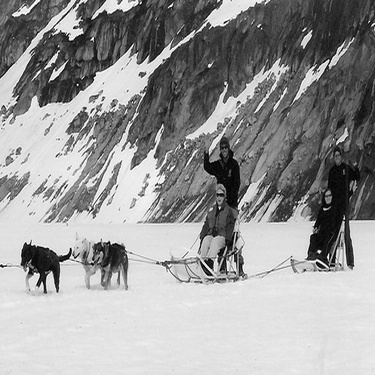dog: (3, 228, 76, 305), (53, 230, 132, 298), (86, 238, 134, 302)
